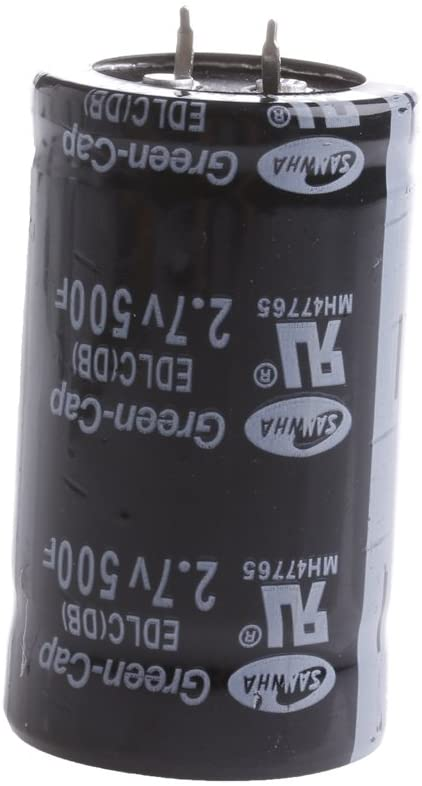capacitor: (26, 11, 408, 786)
